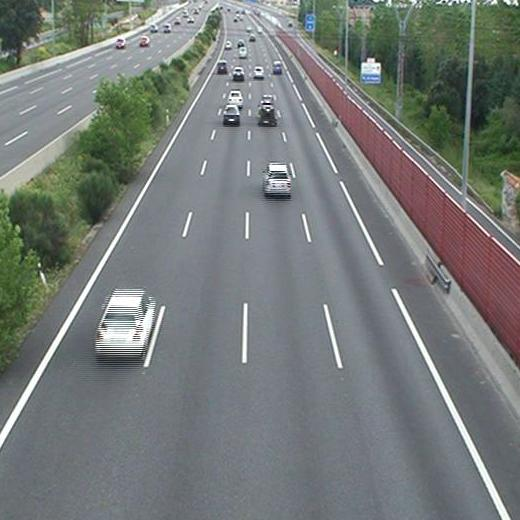car: (95, 290, 154, 354), (263, 164, 291, 194), (224, 106, 241, 124), (228, 91, 244, 107), (232, 67, 245, 79), (217, 61, 228, 72), (253, 66, 263, 77), (273, 61, 282, 72)
small-truck: (259, 96, 276, 124)
van: (239, 46, 246, 57)
